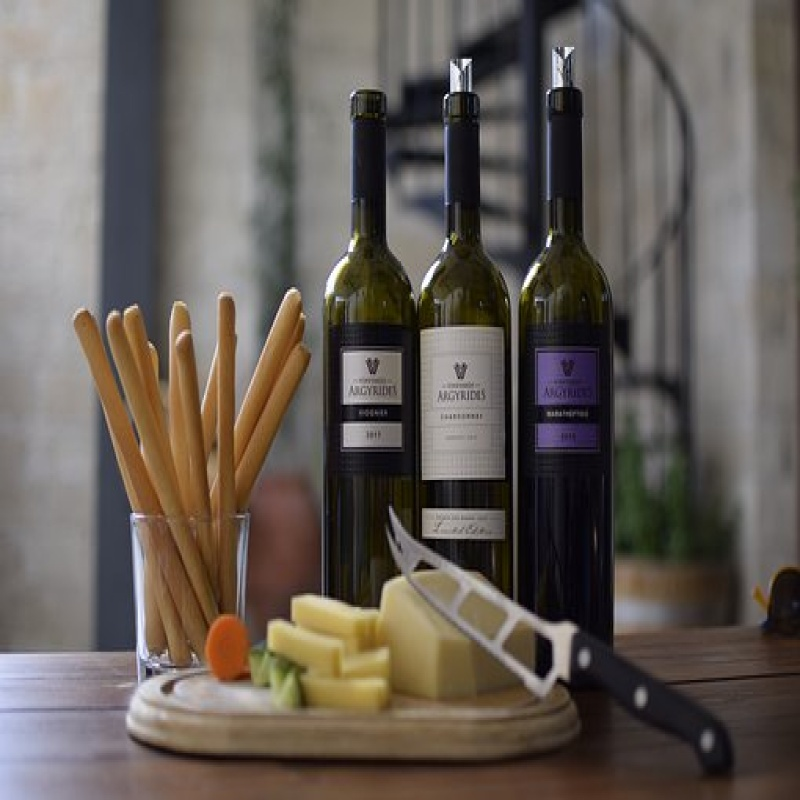wine: (522, 86, 628, 646), (419, 96, 508, 594), (327, 88, 414, 593)
